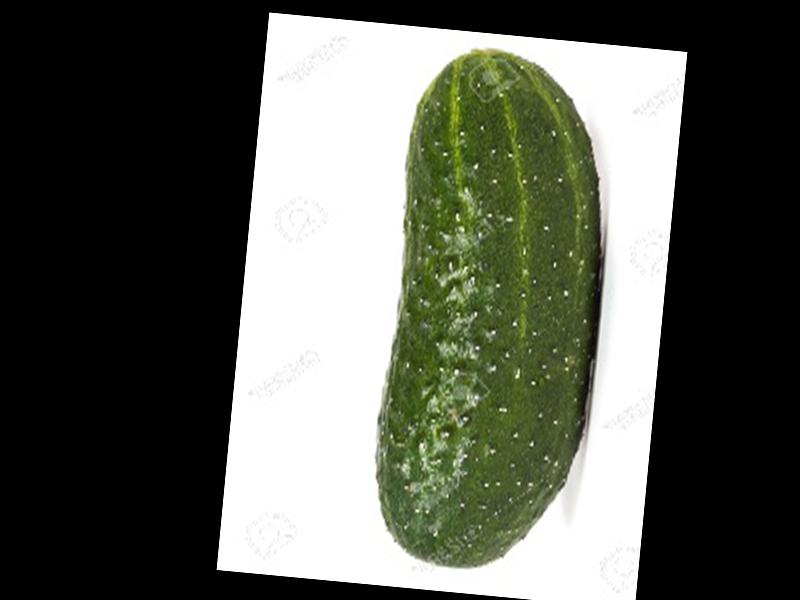Cucumber: (370, 41, 621, 579)
